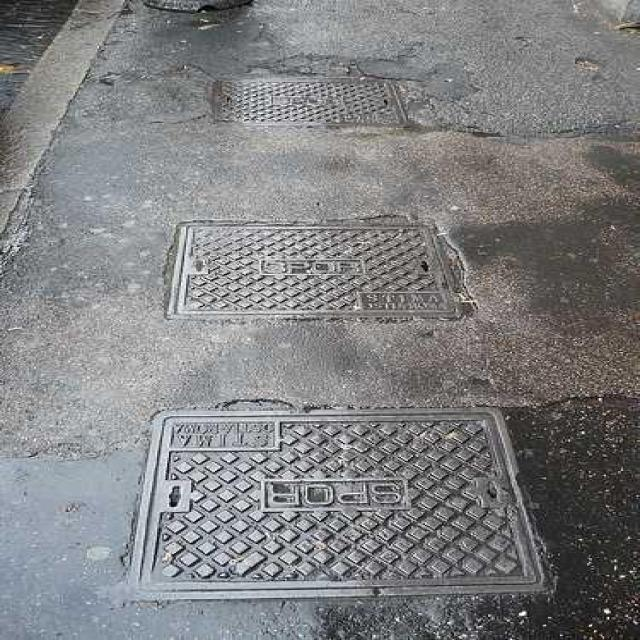manhole: (132, 410, 545, 599), (169, 221, 467, 318), (215, 82, 405, 124)
